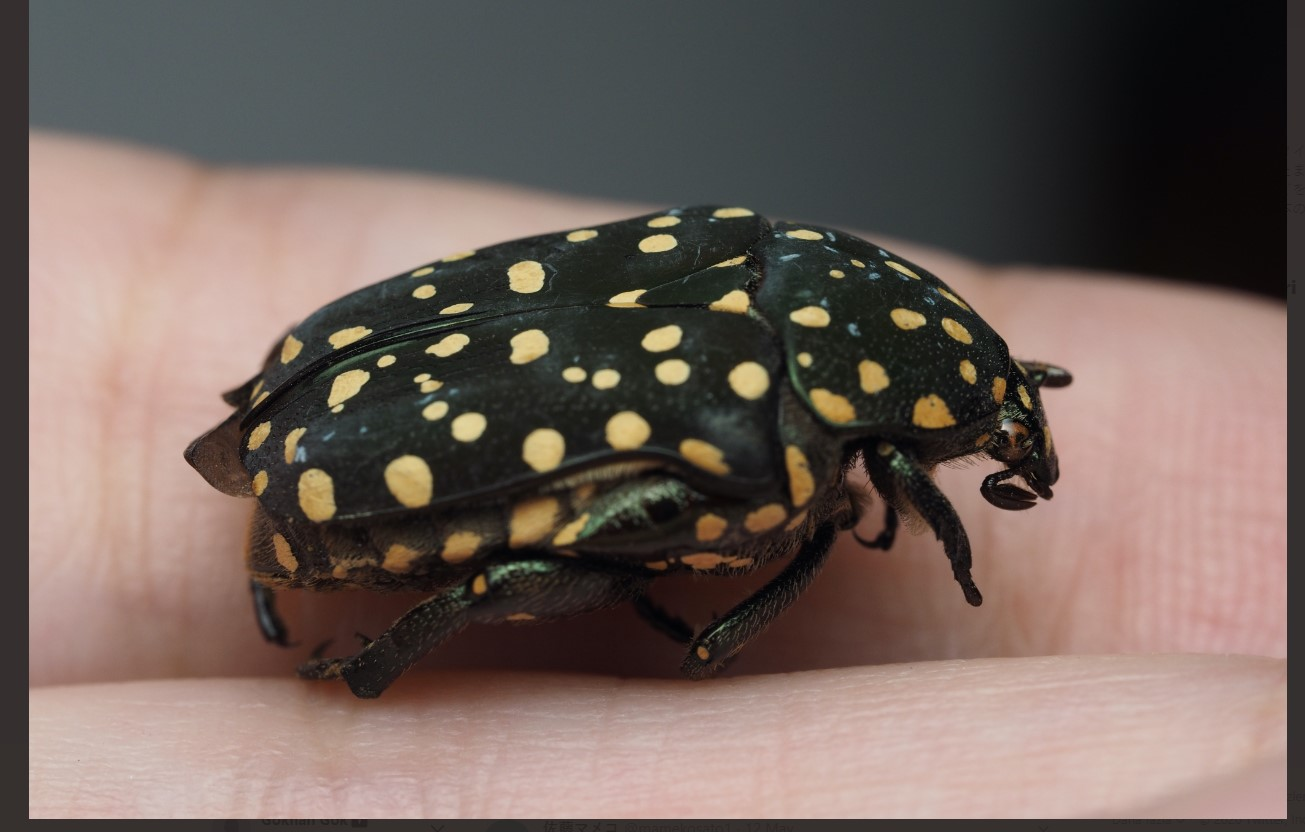Protaetia_niveoguttata: (182, 194, 1072, 687)
